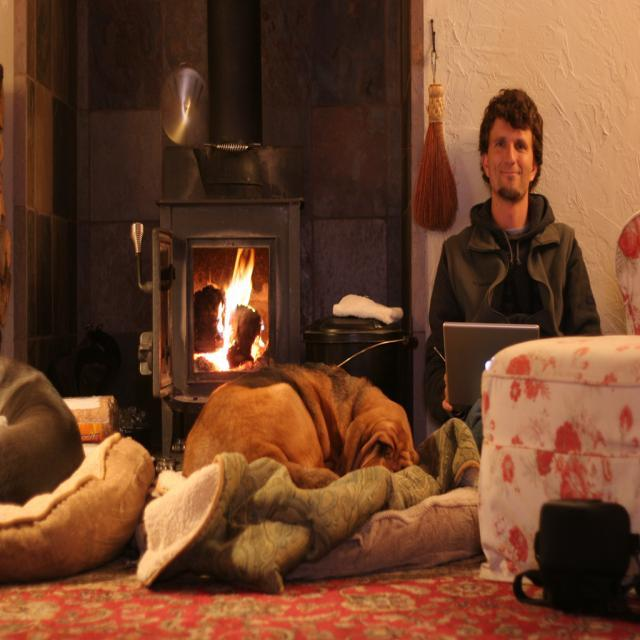Fire: (232, 267, 260, 314), (210, 336, 228, 375)
